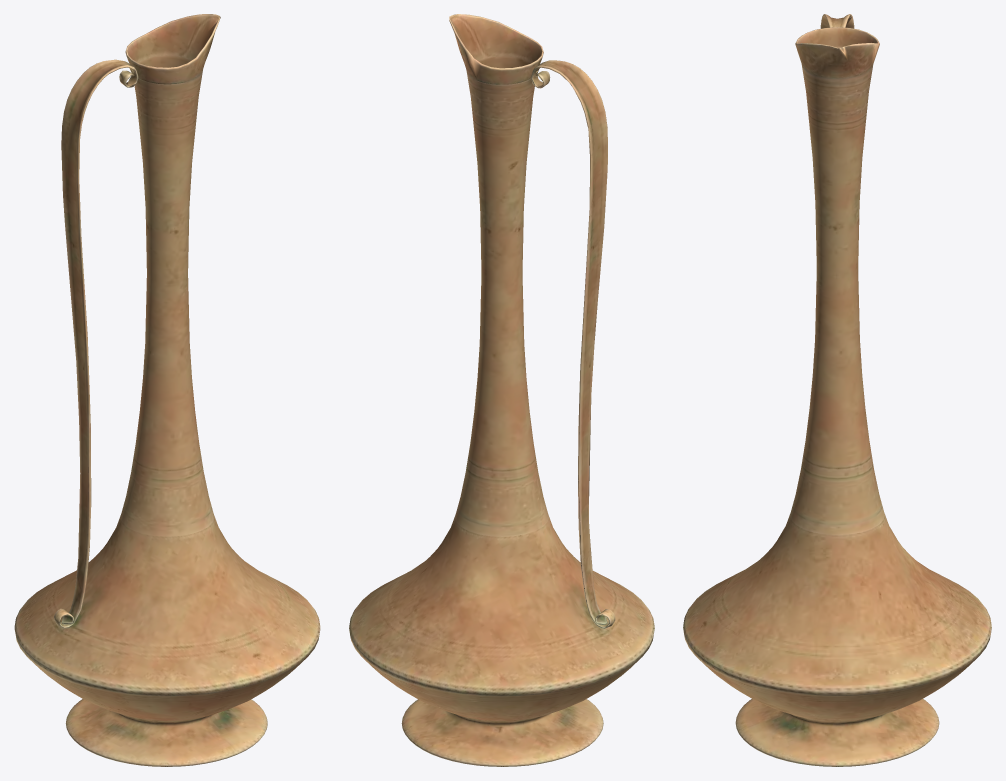
File: brass_vase_02.glb
3 views of the same model, side by side, from view 1: azimuth 30°, elevation 25°; view 2: azimuth 150°, elevation 25°; view 3: azimuth 270°, elevation 25° (orthographic).
Visible parts, largest first — view 1: brass_vase_02; view 2: brass_vase_02; view 3: brass_vase_02.
Part boxes in pixels (left/top/right/bottom): brass_vase_02: left=14, top=14, right=320, bottom=766; brass_vase_02: left=349, top=14, right=654, bottom=766; brass_vase_02: left=683, top=14, right=991, bottom=766.
Bounding box in the file's own units: 0.2103 × 0.5286 × 0.2103.
1 material, 1 textured.
